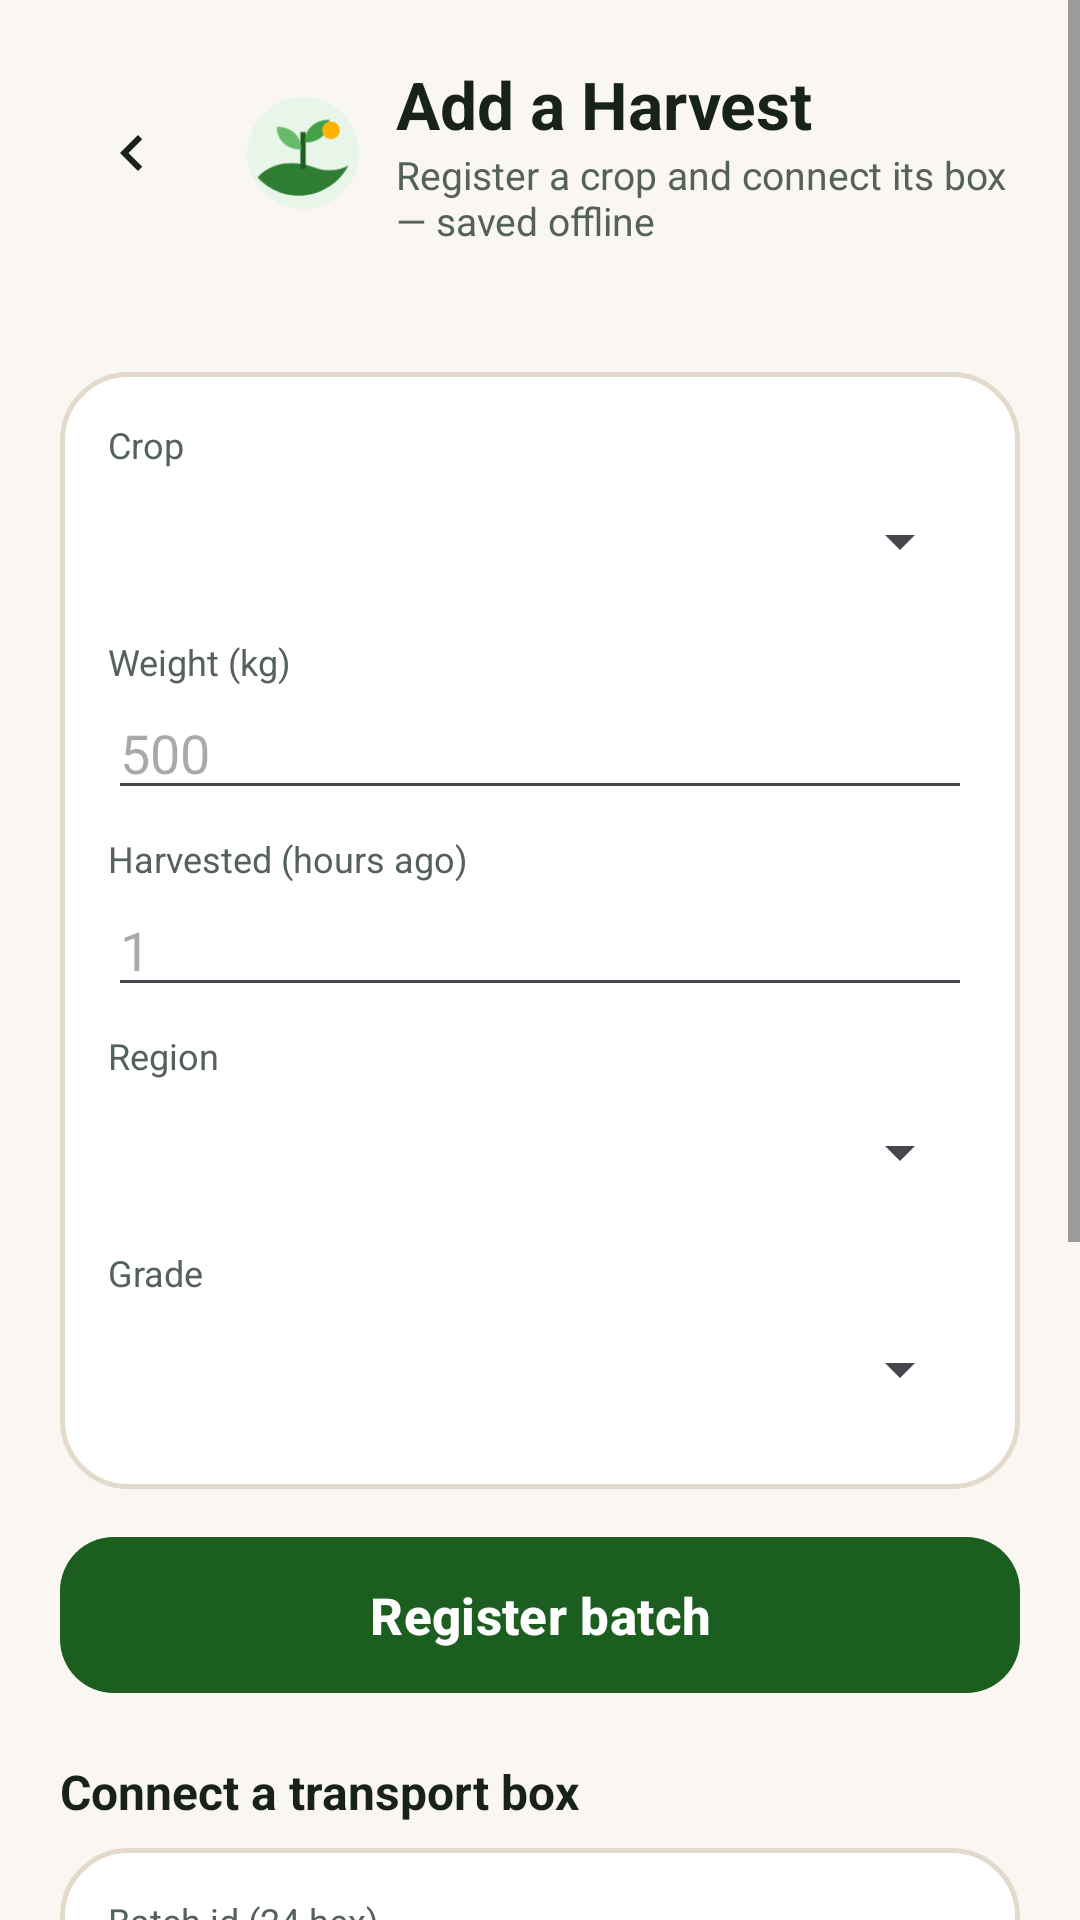

Where to tap for icons on this 1080px x 1920px app screen, as point (x, y):
Back: point (131, 153)
